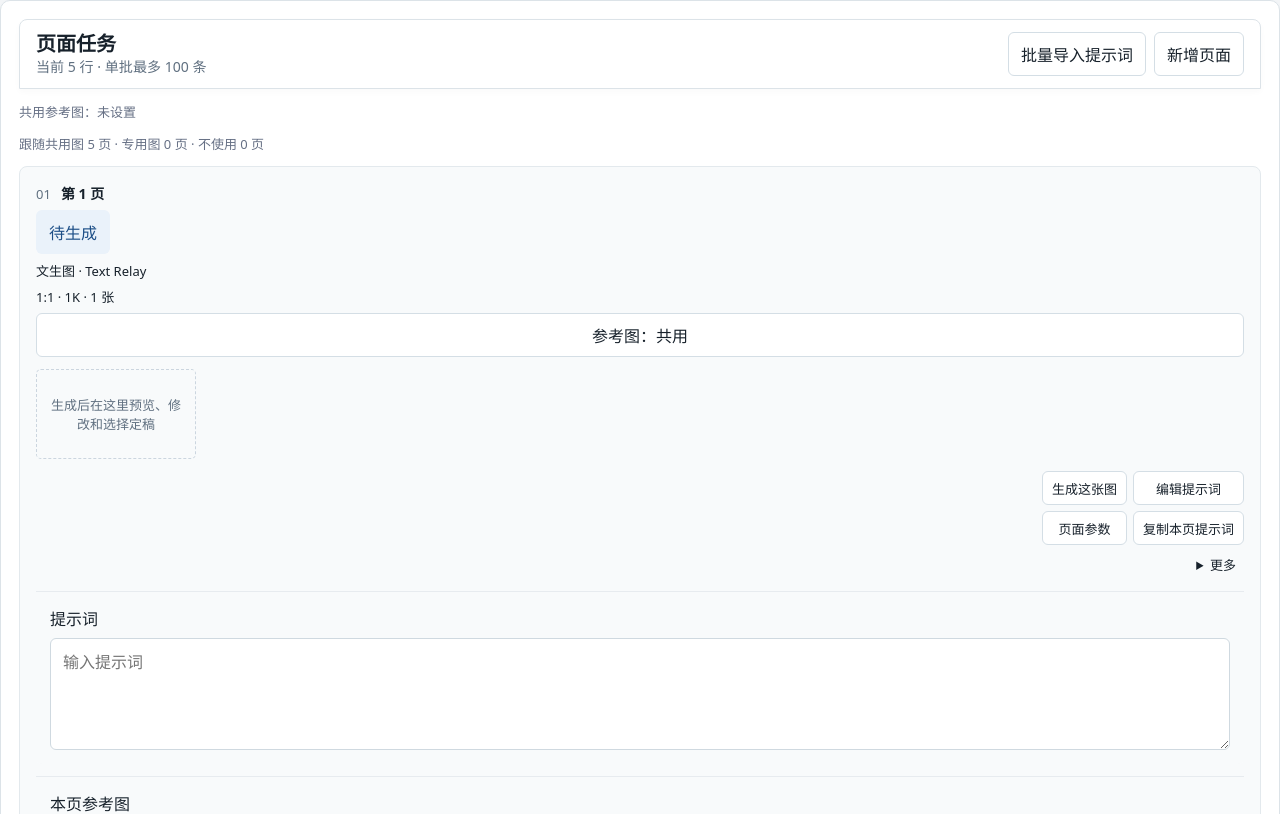
Test case: TaskTable › starts with five empty tasks and lets the user add more
Check: the text "第 1 页" is shown, box [61, 183, 104, 203]
Step 1. Click the button "新增页面" → (1199, 54), box [1154, 32, 1244, 76]
(page scrolled)
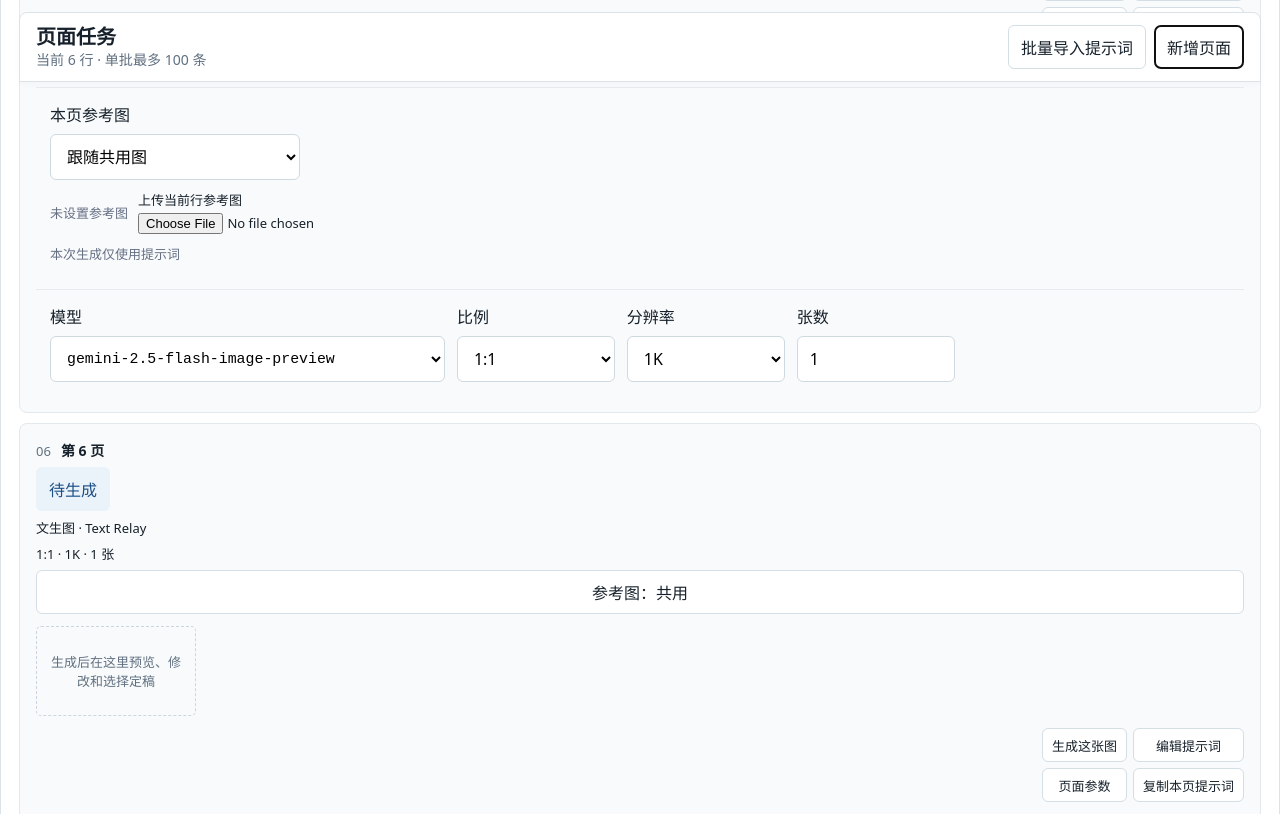
Check: the text "第 6 页" is shown, box [61, 440, 104, 460]
